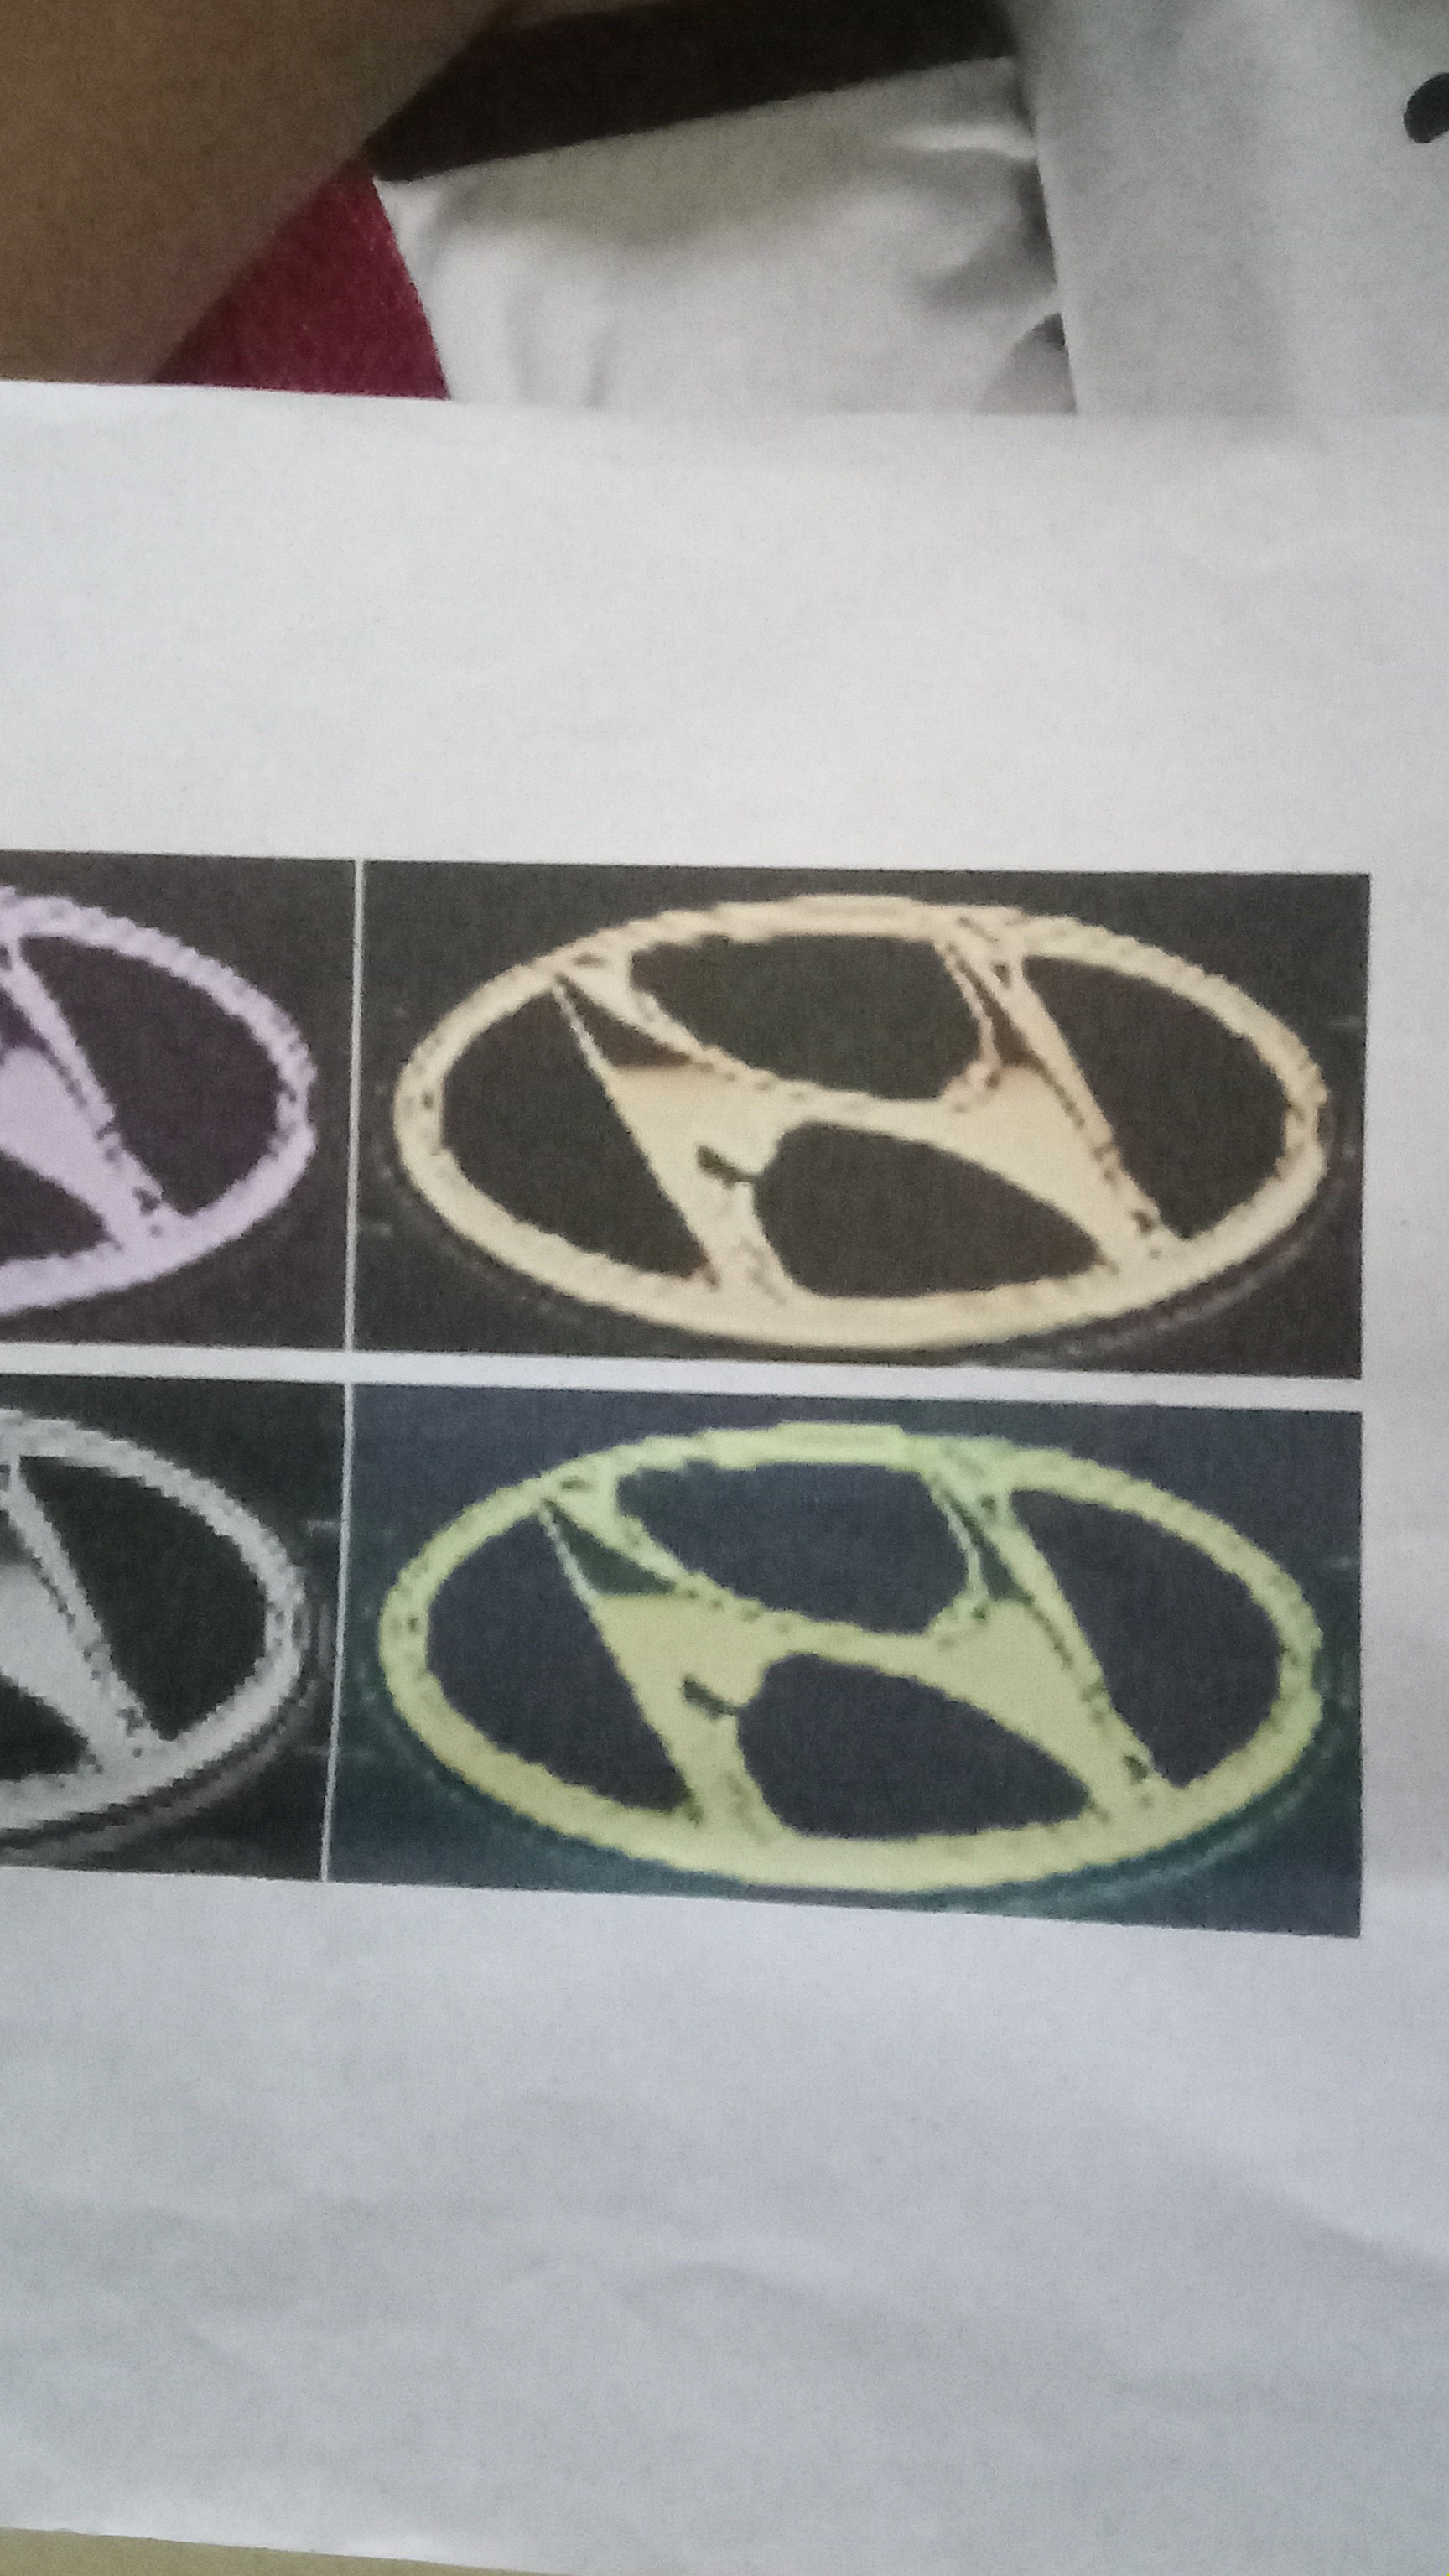Hyundai: (356, 1387, 1375, 1927), (359, 858, 1369, 1398)
